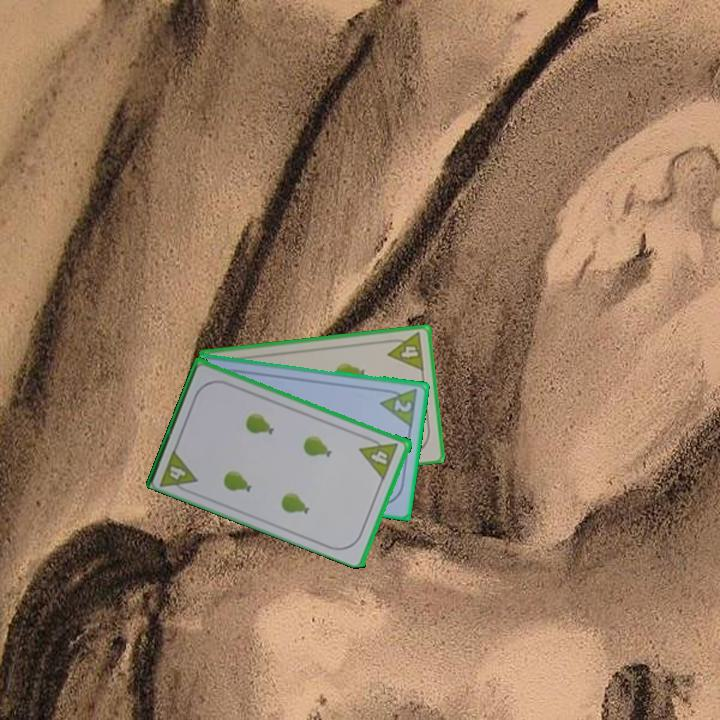2p: (377, 385, 421, 429)
4p: (156, 444, 201, 497), (357, 432, 401, 482), (383, 329, 427, 373)
